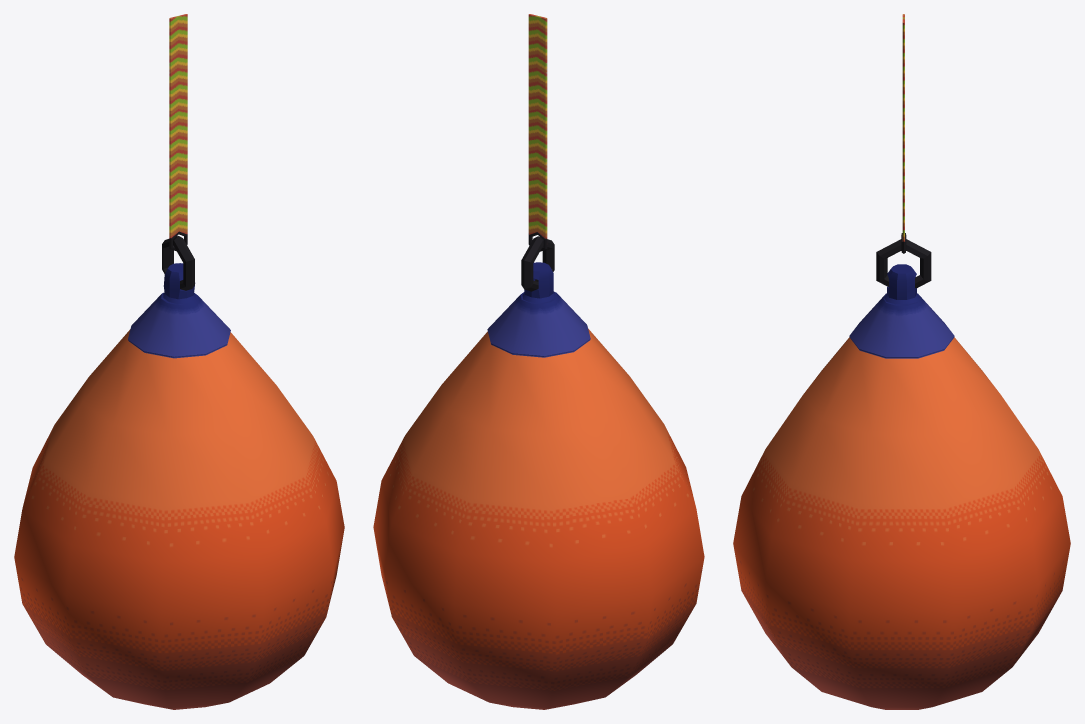
File: Saco_Bola.fbx
3 views of the same model, side by side, from view 1: azimuth 30°, elevation 25°; view 2: azimuth 150°, elevation 25°; view 3: azimuth 270°, elevation 25° (orthographic).
Parts seen in each view (by area): view 1: BALL, CINTA; view 2: BALL, CINTA; view 3: BALL, CINTA.
Part boxes in pixels (x1,y1,x2,y2): BALL: (14, 236, 344, 709); CINTA: (169, 14, 187, 251); BALL: (373, 236, 704, 709); CINTA: (528, 14, 547, 251); BALL: (733, 239, 1070, 709); CINTA: (901, 14, 906, 253).
Bounding box in the file's own units: 53.62 × 125 × 56.38.
